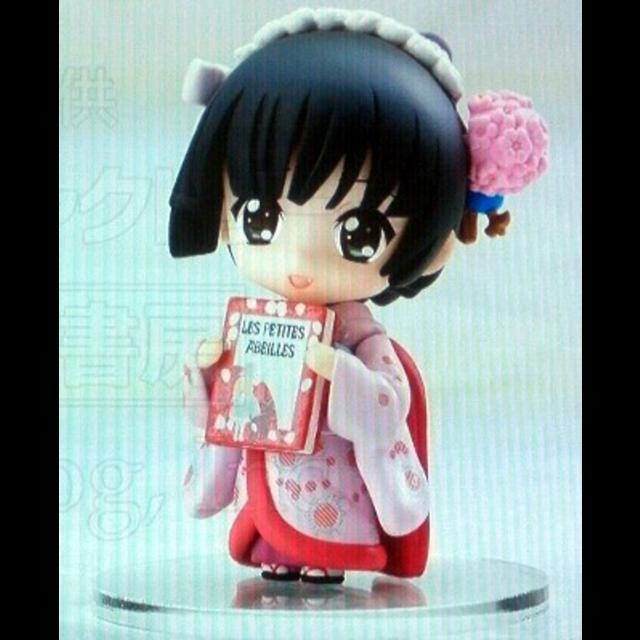Flower: (462, 92, 548, 188)
